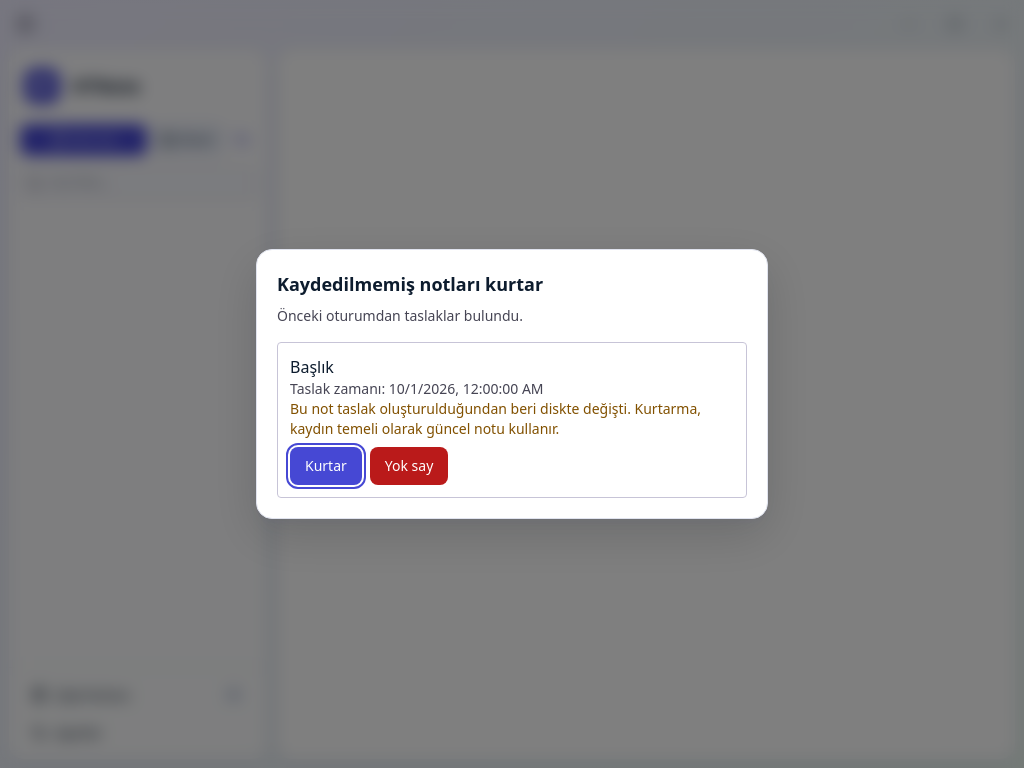
Test: restores draft content as a dirty edit against the current disk base
This screenshot has width=1024, height=768.
Expected: the text "diskte değişti" is shown, [290,399,701,438]
Click the button "Kurtar": (326, 466) [290,447,362,485]
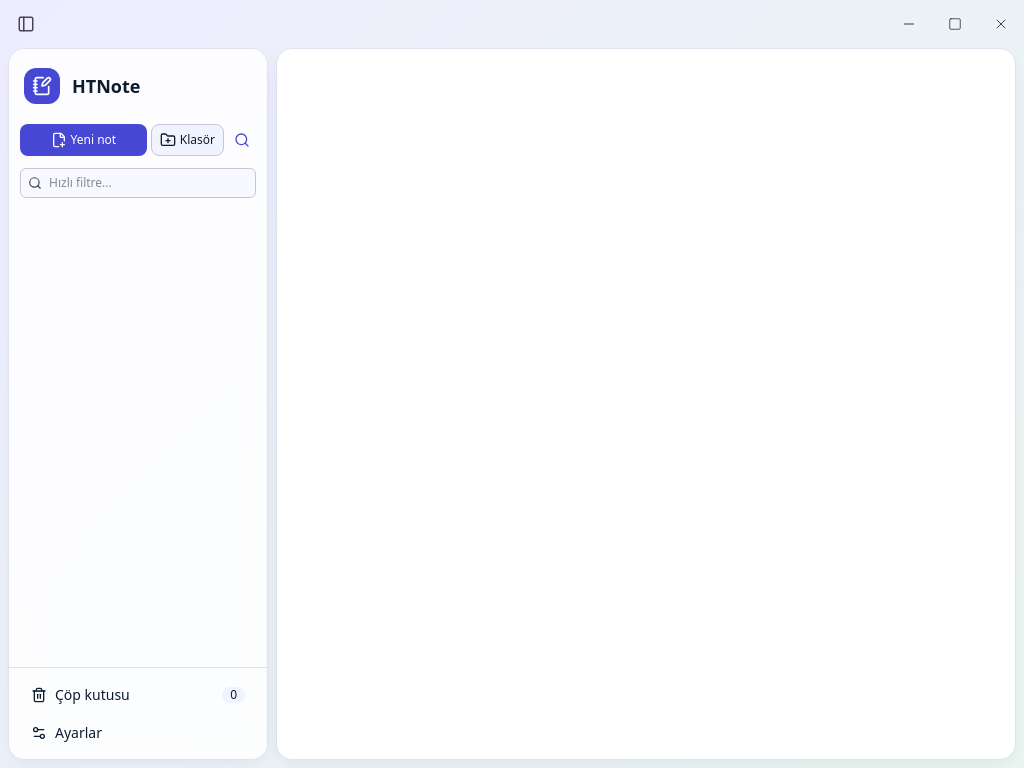
Result: the dialog is gone
